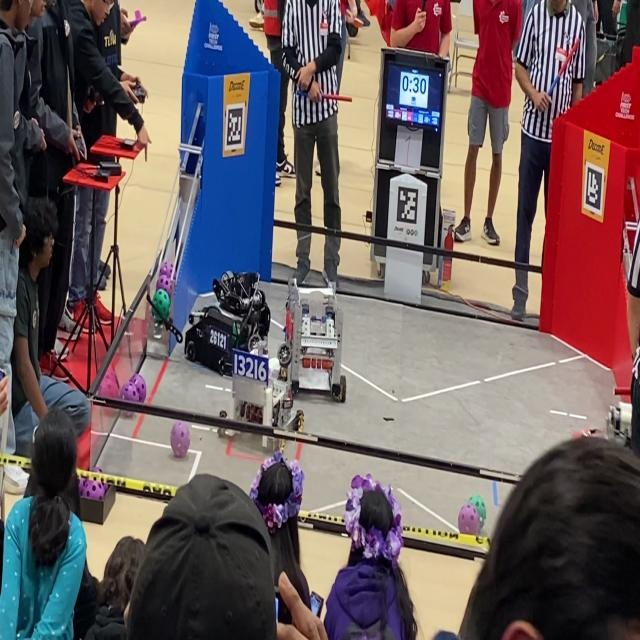artifact_green: (79, 479, 108, 501), (468, 495, 486, 527), (152, 290, 170, 321), (79, 478, 88, 495), (232, 323, 238, 346)
artifact_purple: (171, 421, 190, 458), (458, 504, 480, 535), (81, 480, 107, 500), (99, 376, 119, 399), (130, 374, 146, 402), (121, 382, 139, 402), (156, 275, 171, 296), (104, 368, 119, 388), (159, 262, 174, 280), (79, 478, 88, 495), (92, 467, 102, 474), (92, 467, 102, 473)
